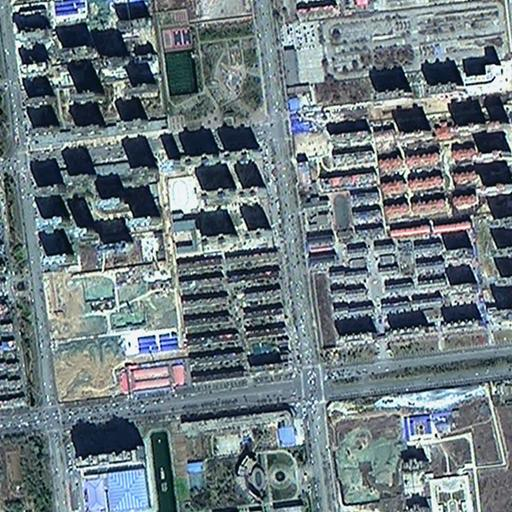school: (166, 172, 199, 254), (300, 191, 354, 231)
